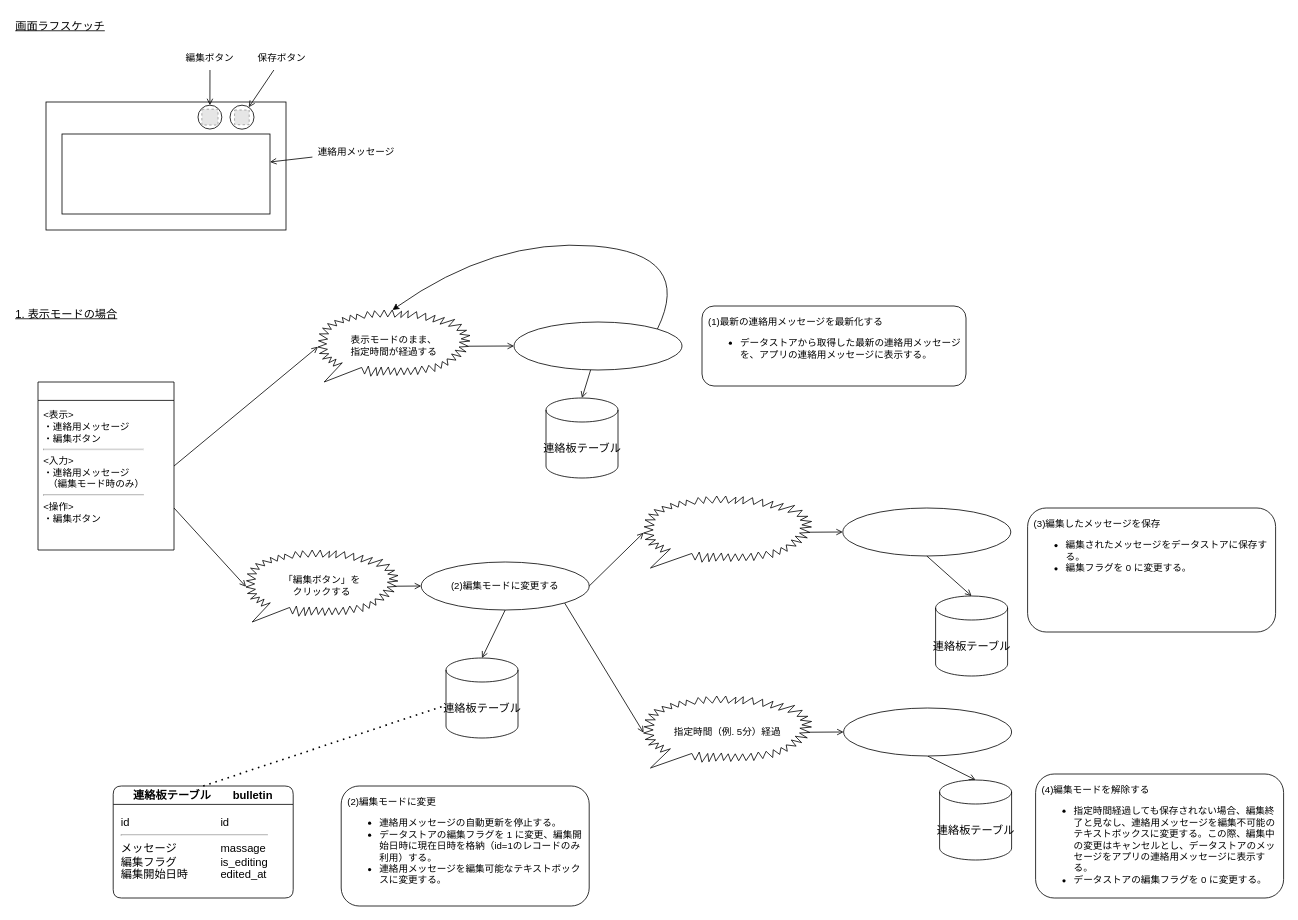
This 1298x920 diagram has some shape labels left out. Grey dashed boxes stand in for pictures. The shapes that lost their labels are listed below. From the top down, each one's box as (x1, y1, x2, y2) in pixels, then its label:
(61, 133, 270, 214): XXXXXXXX XXXXXXXXXXXXXXXXXX XXXXXXXXX
(513, 321, 682, 370): (1)最新の連絡用メッセージを 最新化する
(37, 381, 174, 550): 連絡板
(643, 495, 812, 568): 連絡用メッセージを編集して、 「保存ボタン」をクリックする
(842, 507, 1011, 556): (3)編集したメッセージを保存する
(843, 707, 1012, 756): (4)編集モードを解除する
